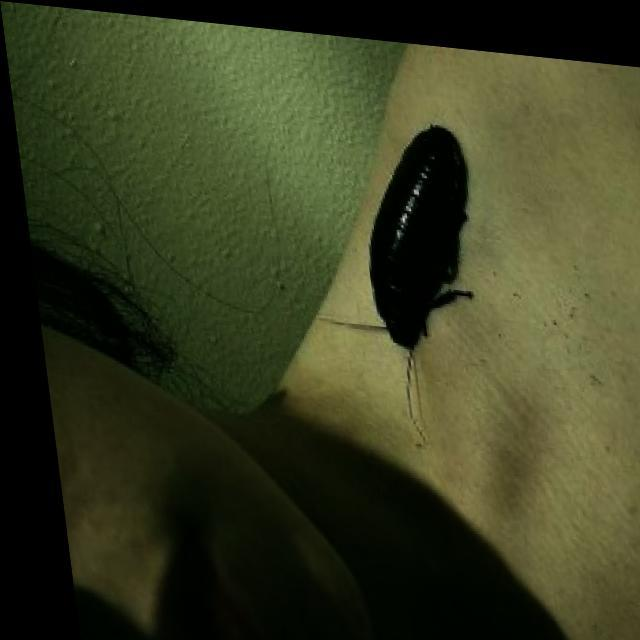cockroach: (351, 116, 480, 364)
